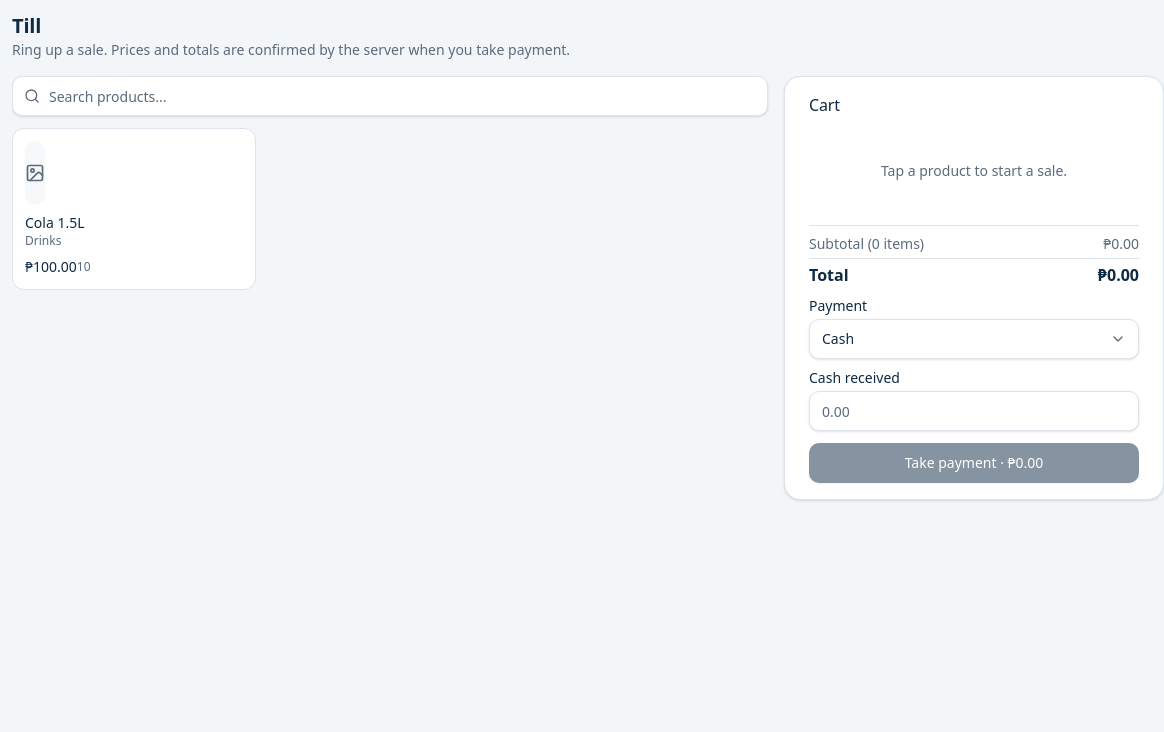
Test: the cart › merges a repeat tap into one line
Click the button with aria-label "Add Cola 1.5L" at (134, 209), box [12,128,256,290]
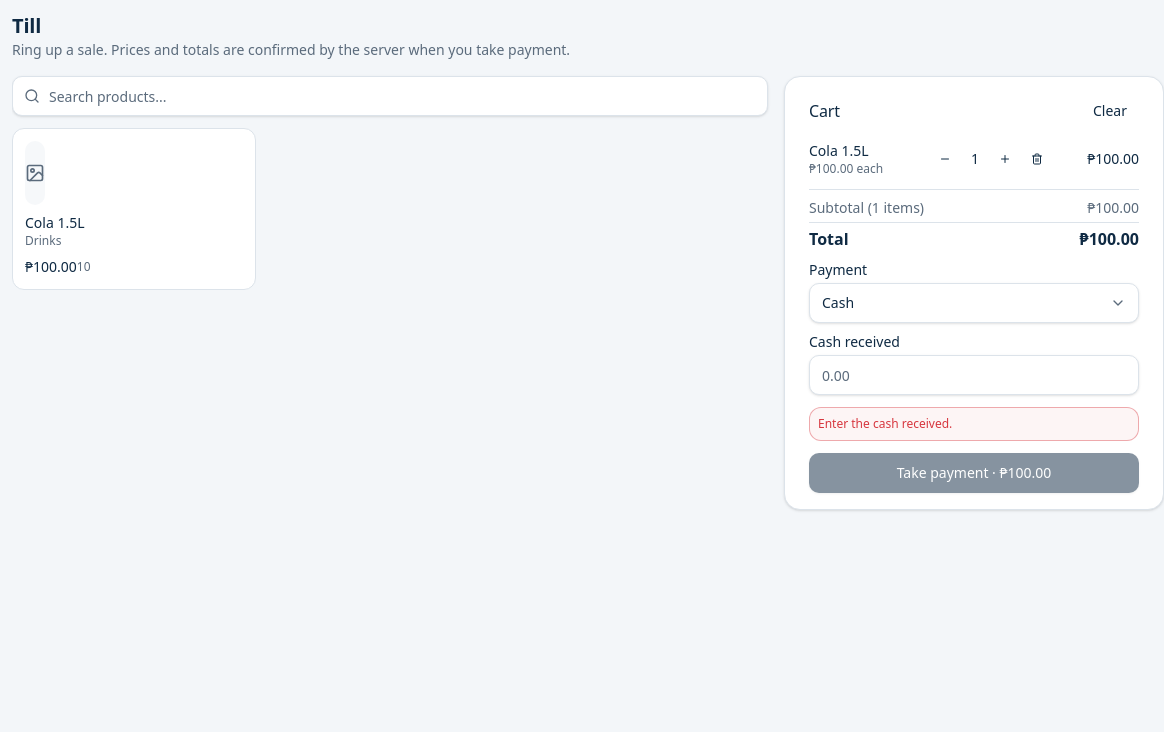
Click the button with aria-label "Add Cola 1.5L" at (134, 209), box [12,128,256,290]
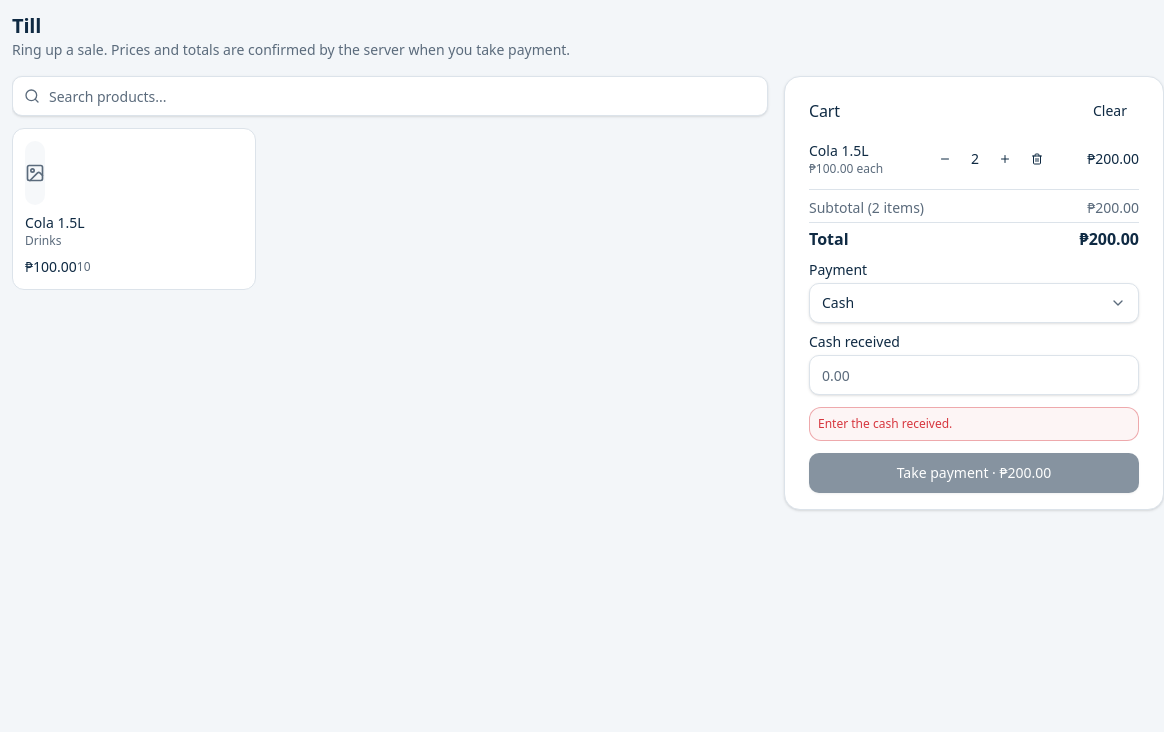
Click the button with aria-label "Add Cola 1.5L" at (134, 209), box [12,128,256,290]
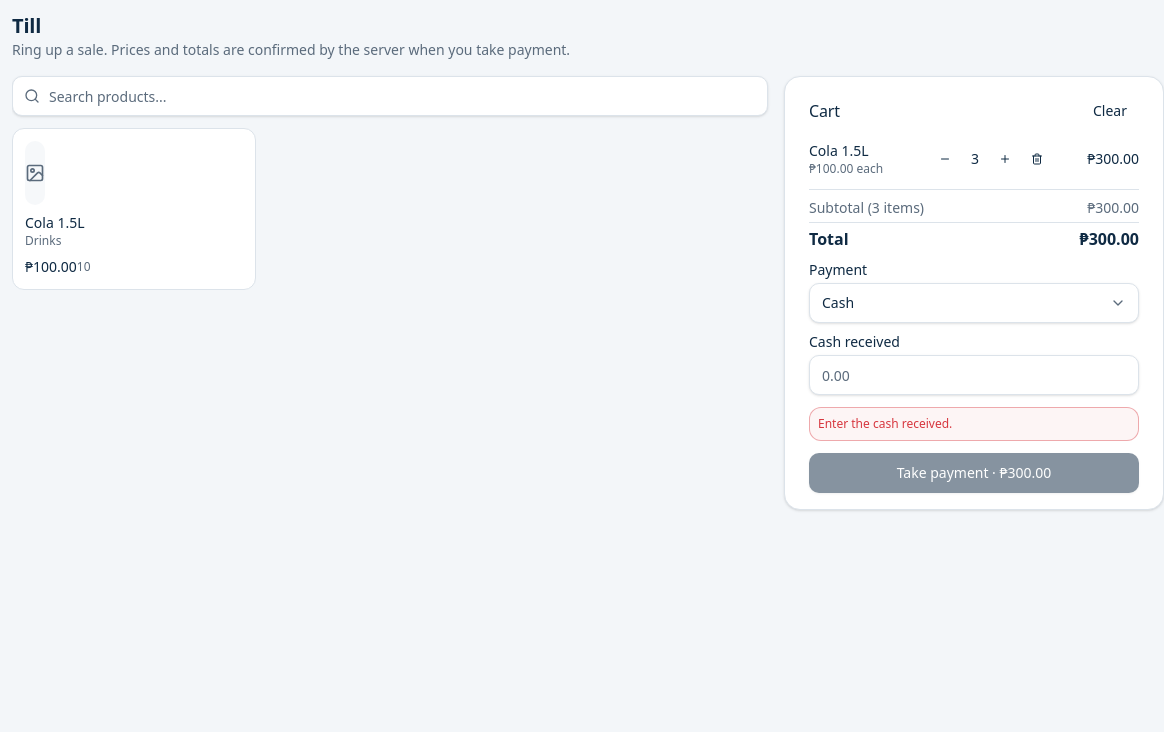
Now the text "Subtotal (3 items)" is shown, box [809,198,924,218]
Now the button "Take payment · ₱300.00" is shown, box [809,453,1139,493]
